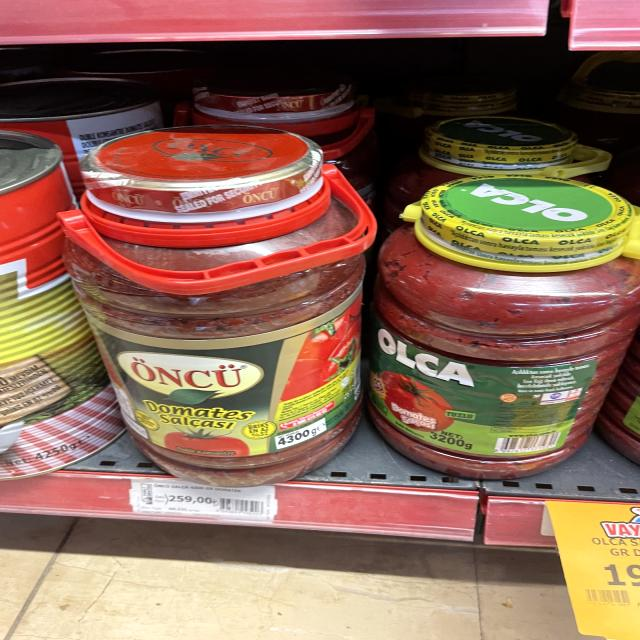tomato paste: (42, 131, 358, 491), (360, 161, 640, 481)
